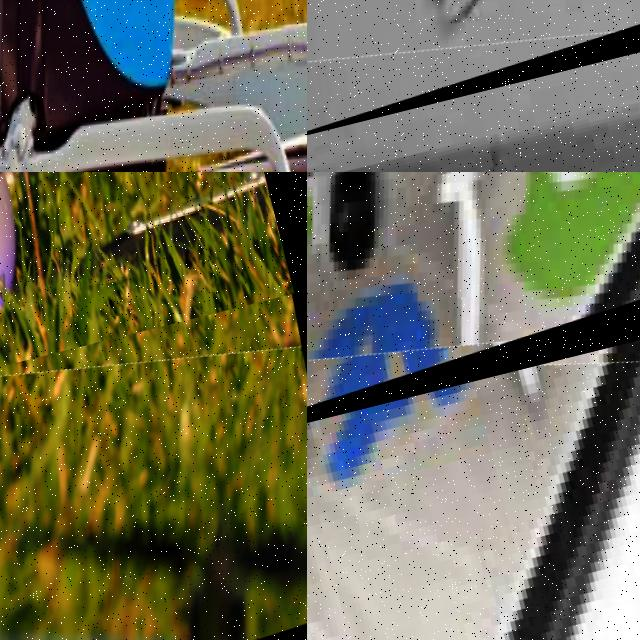0: (307, 0, 640, 142)
drone: (0, 293, 307, 640), (307, 172, 640, 474), (0, 0, 307, 172)
